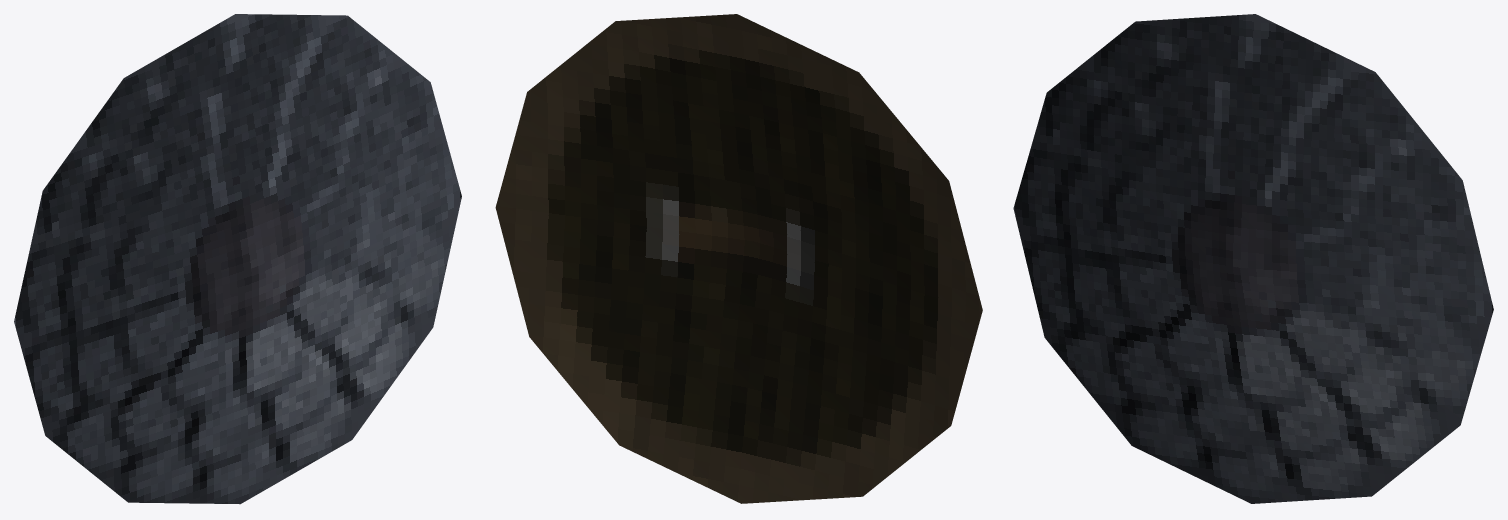
3 views of the same model, side by side, from view 1: azimuth 30°, elevation 25°; view 2: azimuth 150°, elevation 25°; view 3: azimuth 330°, elevation 25° (orthographic).
Parts seen in each view (by area): view 1: it218; view 2: it218; view 3: it218.
Part boxes in pixels (x1,y1,x2,y2): it218: [14, 14, 461, 504]; it218: [495, 14, 982, 503]; it218: [1013, 14, 1493, 503].
Bounding box in the file's own units: 2.38 × 2.39 × 0.2498.
Materials: 2 (2 with a texture image).
